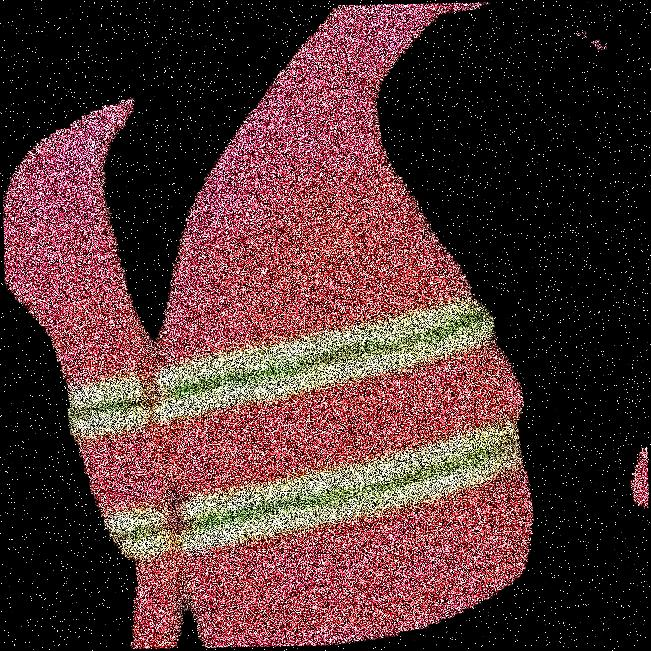Colete: (27, 0, 507, 650)
